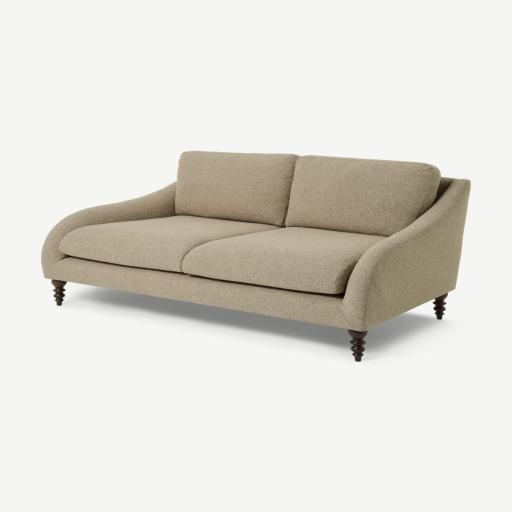back_cushion: (176, 152, 440, 235)
base: (56, 258, 352, 328)
left_arm: (342, 180, 470, 328)
legs: (348, 330, 367, 362), (52, 280, 66, 306), (434, 294, 447, 319)
right_arm: (41, 183, 176, 278)
seat_cushion: (57, 215, 384, 294)
two-seater: (0, 0, 511, 512)
